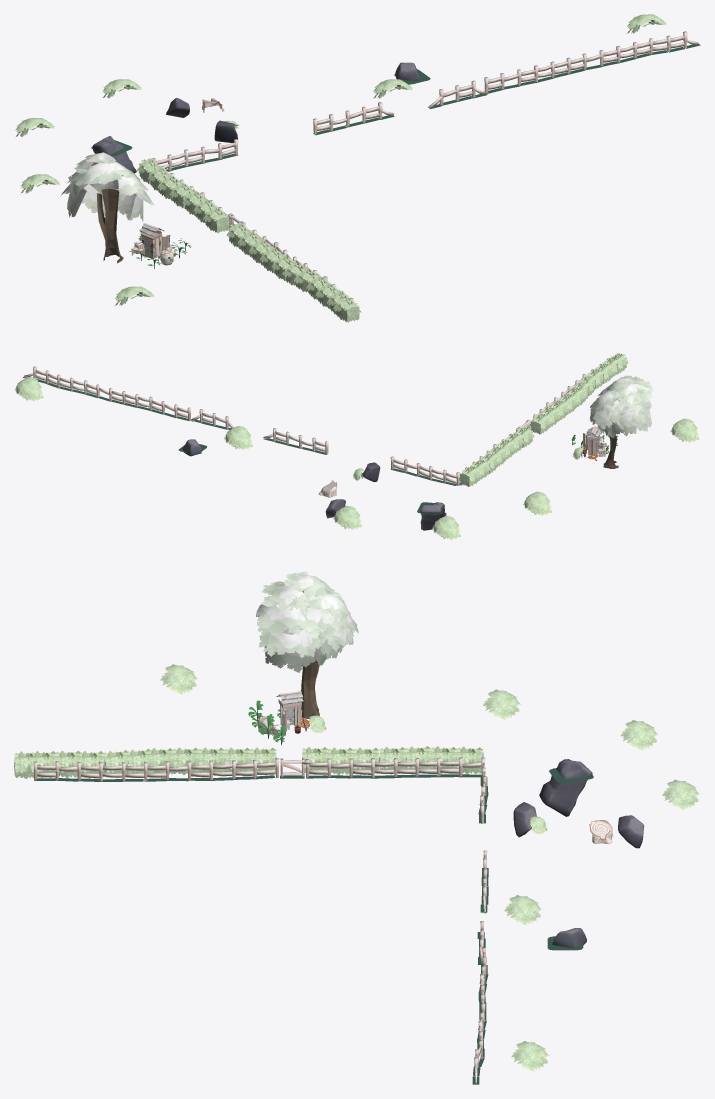
File: FarmImpassableObject2.fbx
The picture shows the model from 3 angles, top to bottom: view 1: azimuth 30°, elevation 25°; view 2: azimuth 150°, elevation 25°; view 3: azimuth 270°, elevation 25°; orthographic projection. The views are drawn at different scales.
Visible parts, largest first — view 1: TreeMapleStumpMediumA, Hedge (×2), ToolShack, ForestRock01; view 2: TreeMapleStumpMediumA, Bush (×6), Hedge (×2), ForestRock01, ToolShack; view 3: TreeMapleStumpMediumA, ForestRock01, Bush.
Part boxes in pixels (<box>): TreeMapleStumpMediumA: <box>61,152,153,263</box>; Hedge (×2): <box>203,207,361,322</box>; ToolShack: <box>139,222,164,259</box>; ForestRock01: <box>92,136,136,173</box>; TreeMapleStumpMediumA: <box>589,375,653,468</box>; Bush (×6): <box>14,377,699,540</box>; Hedge (×2): <box>459,413,551,486</box>; ForestRock01: <box>420,502,446,530</box>; ToolShack: <box>585,426,600,455</box>; TreeMapleStumpMediumA: <box>256,571,358,718</box>; ForestRock01: <box>539,759,592,816</box>; Bush: <box>160,664,197,694</box>.
Size of what is drawn, in the model's own units: 56.9 by 10.58 by 40.76.
Materials: 11 (10 with a texture image).
